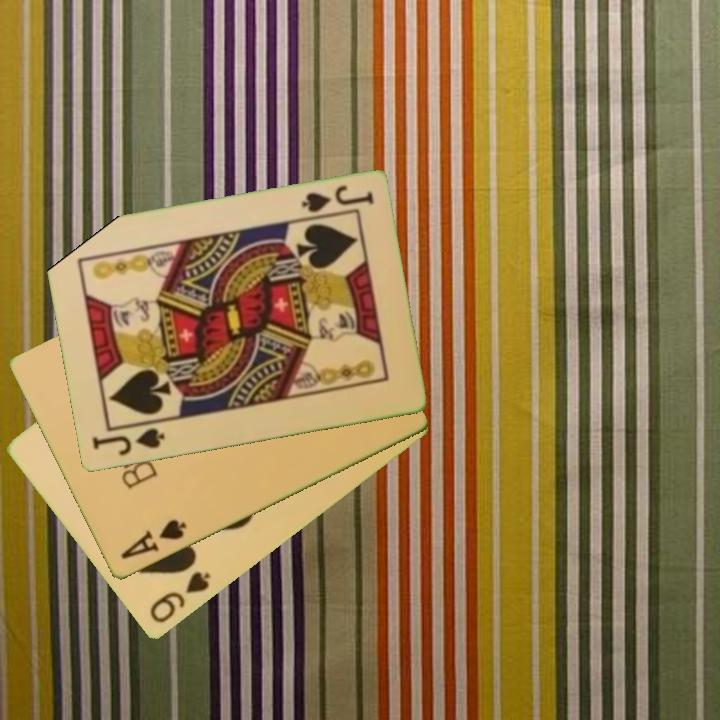9s: (146, 568, 213, 627)
As: (117, 516, 190, 563)
Js: (88, 425, 168, 459), (297, 182, 376, 216)
